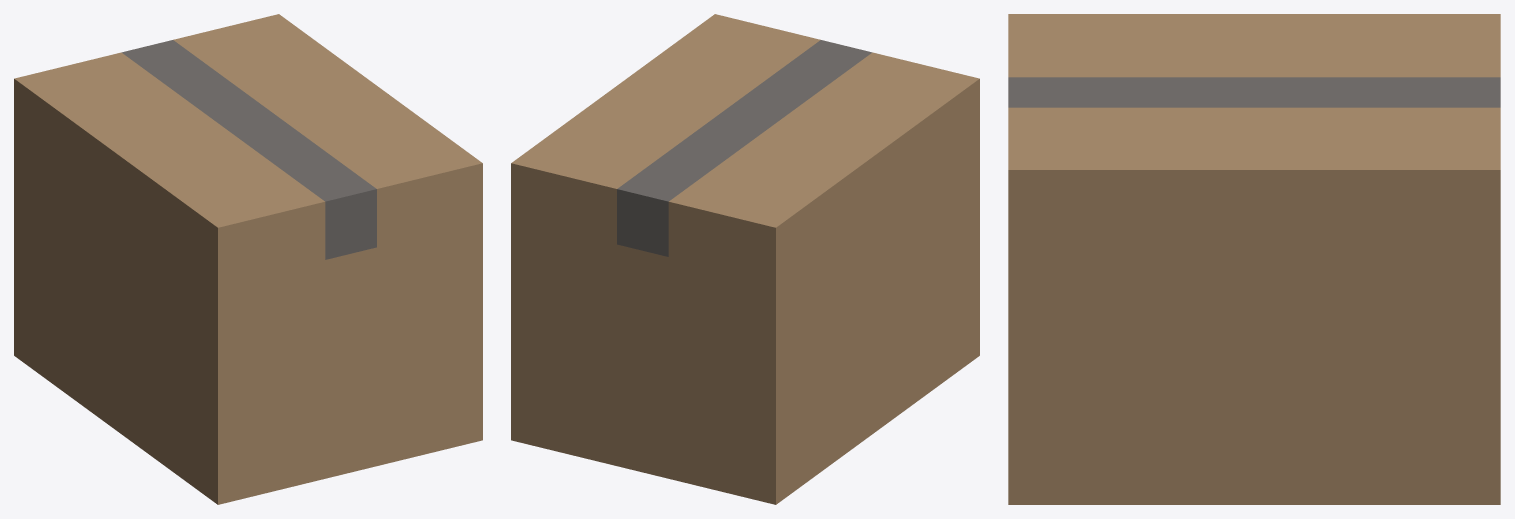
File: Box Small.glb
3 renders of one model, left to right at view 1: azimuth 30°, elevation 25°; view 2: azimuth 150°, elevation 25°; view 3: azimuth 270°, elevation 25°, orthographic. The views are drawn at different scales.
Parts seen in each view (by area): view 1: Cube; view 2: Cube; view 3: Cube.
Boxes of the visible parts, x1,y1,x2,y2 form: Cube: (14,14,482,504); Cube: (511,14,979,504); Cube: (1008,14,1500,504).
Bounding box in the file's own units: 0.3 × 0.3 × 0.4.
